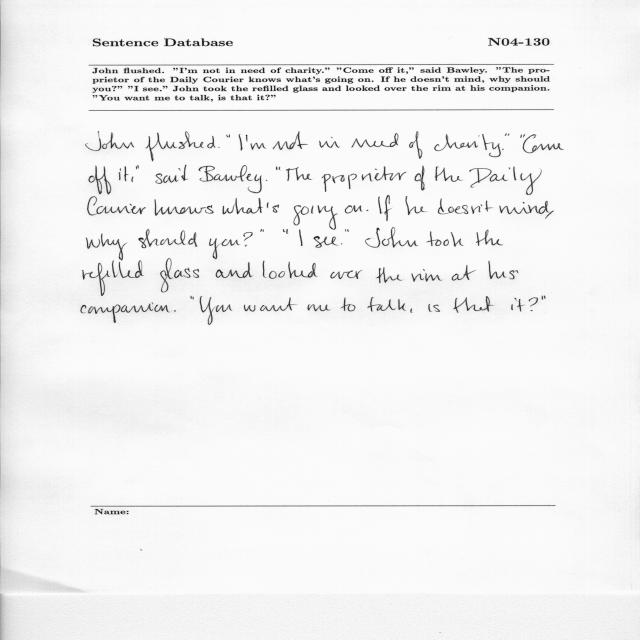word: (322, 166, 407, 192), (83, 260, 144, 296), (145, 132, 216, 162), (469, 166, 542, 195), (81, 302, 170, 323), (198, 165, 262, 193), (434, 134, 501, 157), (160, 258, 199, 293), (365, 227, 419, 248), (139, 229, 198, 248), (87, 234, 128, 261), (88, 197, 146, 216), (294, 205, 338, 230), (154, 199, 214, 216), (263, 261, 318, 279), (86, 131, 135, 151), (200, 296, 233, 325), (438, 199, 493, 214), (522, 134, 564, 153), (244, 298, 296, 312), (351, 133, 399, 148), (454, 296, 495, 313), (273, 131, 308, 150), (499, 201, 550, 214), (209, 238, 240, 259), (223, 198, 263, 214), (89, 166, 111, 195), (156, 165, 189, 184), (216, 262, 253, 278), (367, 297, 406, 312), (489, 261, 519, 280), (427, 232, 464, 247), (434, 166, 463, 182), (476, 230, 503, 246), (406, 196, 428, 215), (376, 267, 402, 283), (412, 269, 442, 282), (410, 131, 423, 159), (286, 167, 312, 181), (378, 195, 392, 221), (452, 265, 476, 280), (246, 135, 266, 150), (314, 236, 339, 248), (330, 270, 363, 279), (415, 166, 425, 191), (319, 137, 340, 148), (341, 298, 355, 312), (511, 298, 525, 311), (118, 166, 129, 181), (308, 304, 331, 311), (345, 206, 363, 214), (243, 232, 253, 246), (267, 202, 279, 213), (529, 298, 538, 311), (428, 304, 440, 312), (545, 210, 554, 219), (239, 134, 243, 151), (300, 229, 303, 246), (283, 229, 288, 234), (276, 167, 281, 171), (226, 134, 230, 138), (542, 296, 546, 300), (505, 133, 509, 136), (132, 176, 134, 182), (136, 165, 139, 169), (260, 229, 264, 232), (191, 296, 194, 300), (411, 308, 413, 313), (345, 229, 348, 232), (520, 134, 522, 138), (174, 310, 176, 312), (218, 147, 220, 148), (502, 149, 504, 150), (266, 180, 268, 181), (367, 210, 369, 211), (341, 243, 342, 245)
